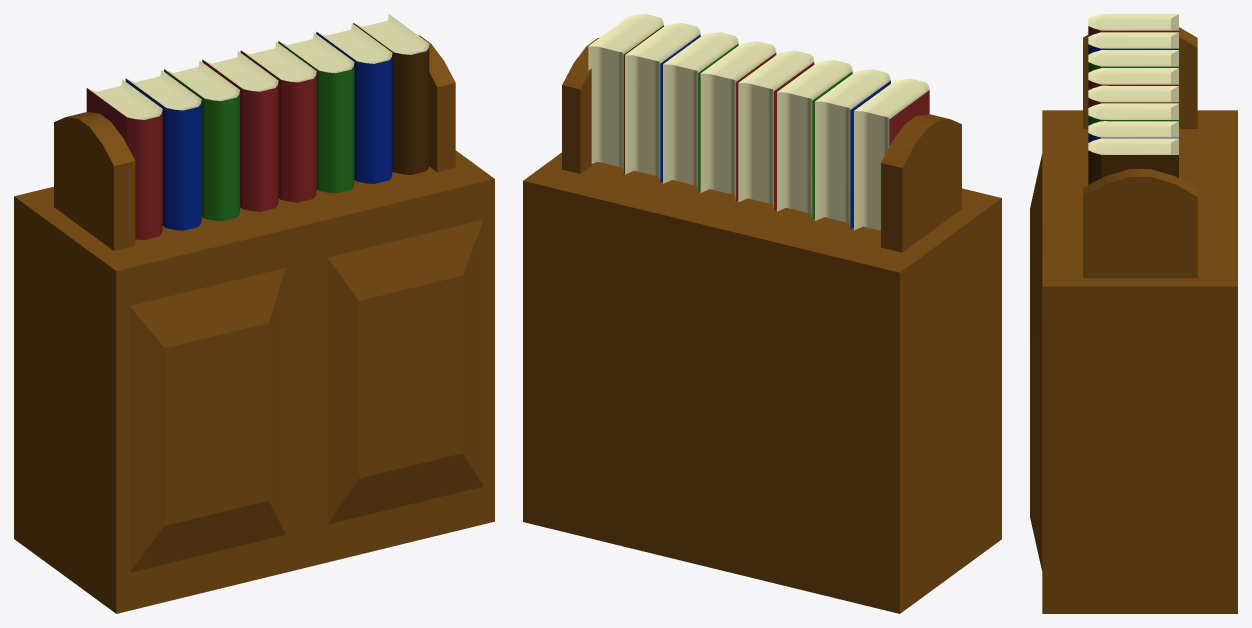
File: nightstand2.fbx
3 renders of one model, left to right at view 1: azimuth 30°, elevation 25°; view 2: azimuth 150°, elevation 25°; view 3: azimuth 270°, elevation 25°, orthographic. The views are drawn at different scales.
Parts seen in each view (by area): view 1: pCube10; view 2: pCube10; view 3: pCube10.
Boxes of the visible parts, x1=… form: pCube10: x1=14, y1=14, x2=494, y2=613; pCube10: x1=523, y1=14, x2=1001, y2=613; pCube10: x1=1030, y1=14, x2=1237, y2=613.
Size of the model in its own units: 6.46 by 7.56 by 3.22.
